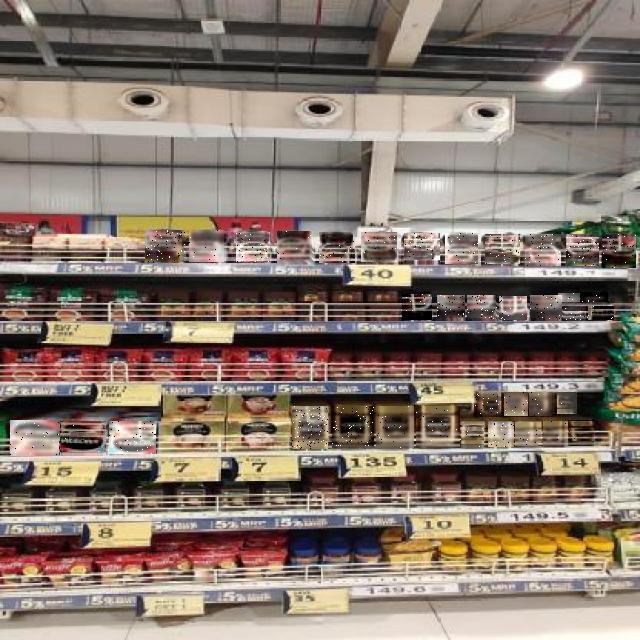Coffee: (417, 406, 461, 448), (332, 406, 374, 448), (10, 421, 59, 457), (377, 406, 415, 448), (60, 422, 106, 456), (109, 421, 156, 454), (292, 406, 328, 449), (146, 230, 186, 262), (602, 234, 636, 268), (190, 230, 226, 262), (278, 232, 314, 264), (525, 234, 561, 266), (319, 232, 355, 263), (361, 233, 397, 263), (405, 234, 441, 264), (566, 234, 599, 266), (485, 234, 520, 264), (445, 233, 478, 264), (236, 232, 270, 262), (402, 294, 432, 320), (530, 296, 562, 320), (468, 296, 498, 320), (569, 420, 595, 446), (437, 296, 465, 320), (499, 297, 527, 321), (488, 422, 514, 447), (544, 421, 568, 447), (530, 392, 554, 416), (504, 392, 528, 416), (516, 423, 540, 447), (461, 424, 485, 448), (475, 394, 501, 415), (558, 392, 580, 414), (586, 306, 614, 320), (563, 308, 588, 320), (581, 292, 609, 302), (558, 293, 580, 302)
